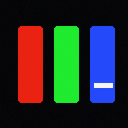3 line_h: (94, 83, 112, 87)
